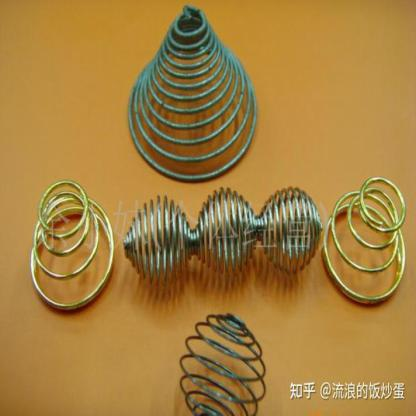FOD: (125, 2, 260, 184), (122, 183, 324, 281), (28, 175, 115, 313), (322, 174, 408, 309), (178, 307, 268, 415)
